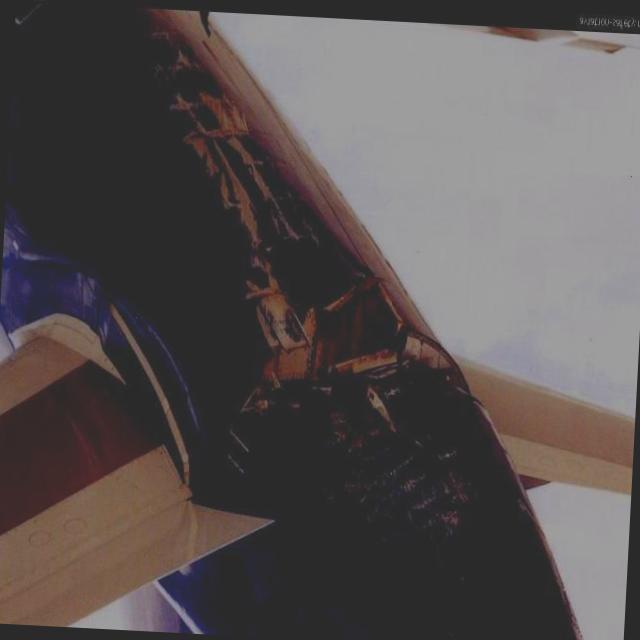crack: (233, 326, 454, 423)
